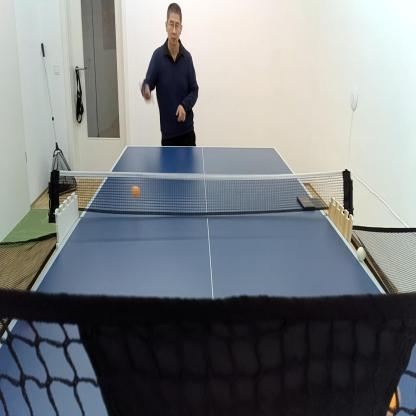Ball: (358, 244, 366, 262), (132, 186, 140, 197)
